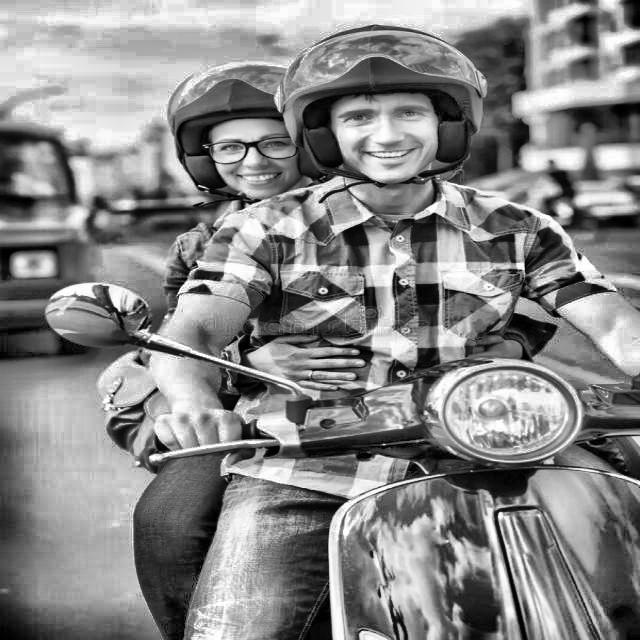Helmet: (270, 18, 496, 192), (160, 55, 300, 212)
